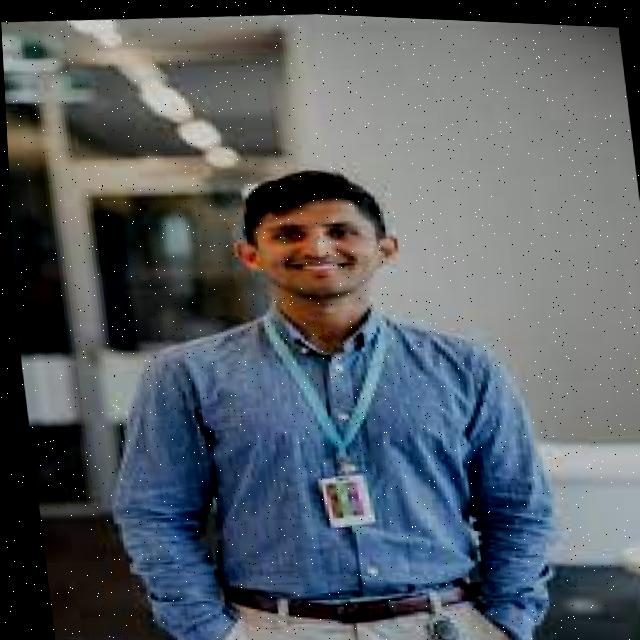id_card: (251, 308, 418, 529)
